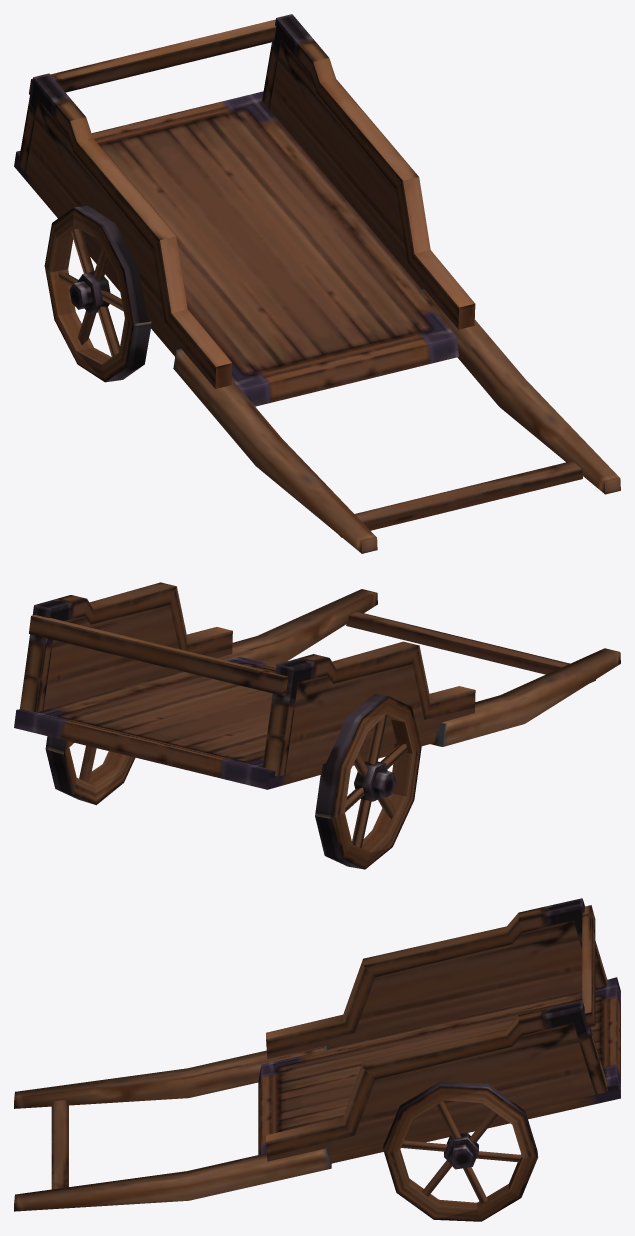
File: 2_YiZhan_TuiChe_01.FBX
3 renders of one model, top to bottom at view 1: azimuth 30°, elevation 25°; view 2: azimuth 150°, elevation 25°; view 3: azimuth 270°, elevation 25°, orthographic. The views are drawn at different scales.
Parts seen in each view (by area): view 1: 2_YiZhan_TuiChe_01; view 2: 2_YiZhan_TuiChe_01; view 3: 2_YiZhan_TuiChe_01.
Part boxes in pixels (x1,y1,x2,y2): 2_YiZhan_TuiChe_01: [14, 14, 620, 553]; 2_YiZhan_TuiChe_01: [14, 582, 620, 869]; 2_YiZhan_TuiChe_01: [14, 898, 620, 1221].
Bounding box in the file's own units: 325 × 241 × 631.
